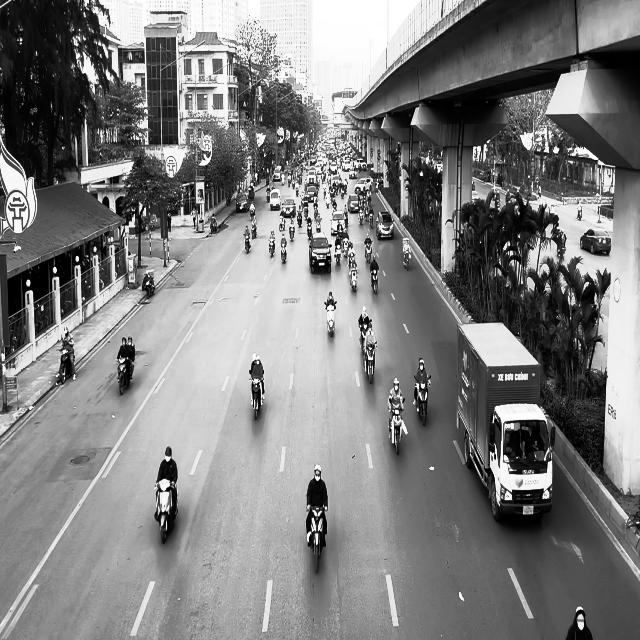car: (308, 232, 332, 274), (580, 227, 611, 255), (376, 211, 394, 239), (330, 211, 347, 235), (280, 197, 296, 217), (235, 193, 249, 212), (348, 193, 360, 213), (270, 188, 280, 210)
motorbike: (154, 479, 178, 543), (306, 505, 328, 573), (388, 398, 405, 455), (413, 374, 431, 426), (57, 347, 76, 385), (249, 372, 264, 420), (116, 356, 134, 395), (362, 342, 377, 383), (324, 300, 336, 336), (142, 270, 155, 298), (348, 262, 358, 292), (370, 265, 378, 293), (243, 232, 251, 253), (280, 242, 287, 263), (269, 237, 275, 257)
truck: (456, 320, 555, 522)
